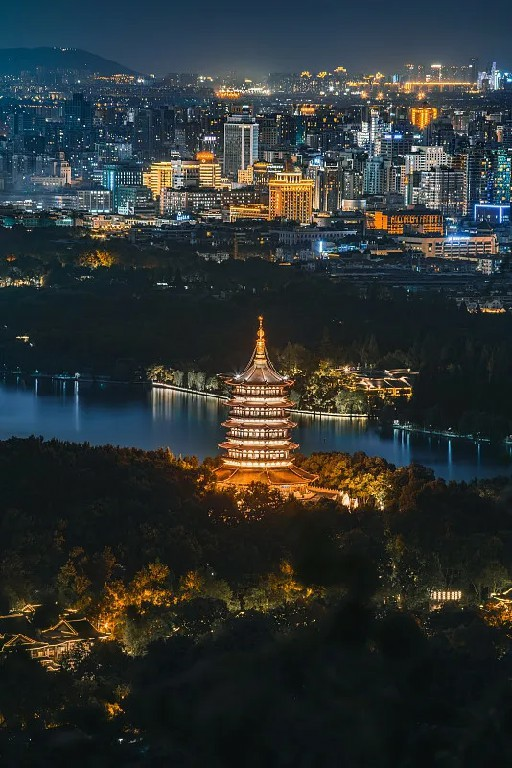Leifeng: (218, 317, 300, 474)
